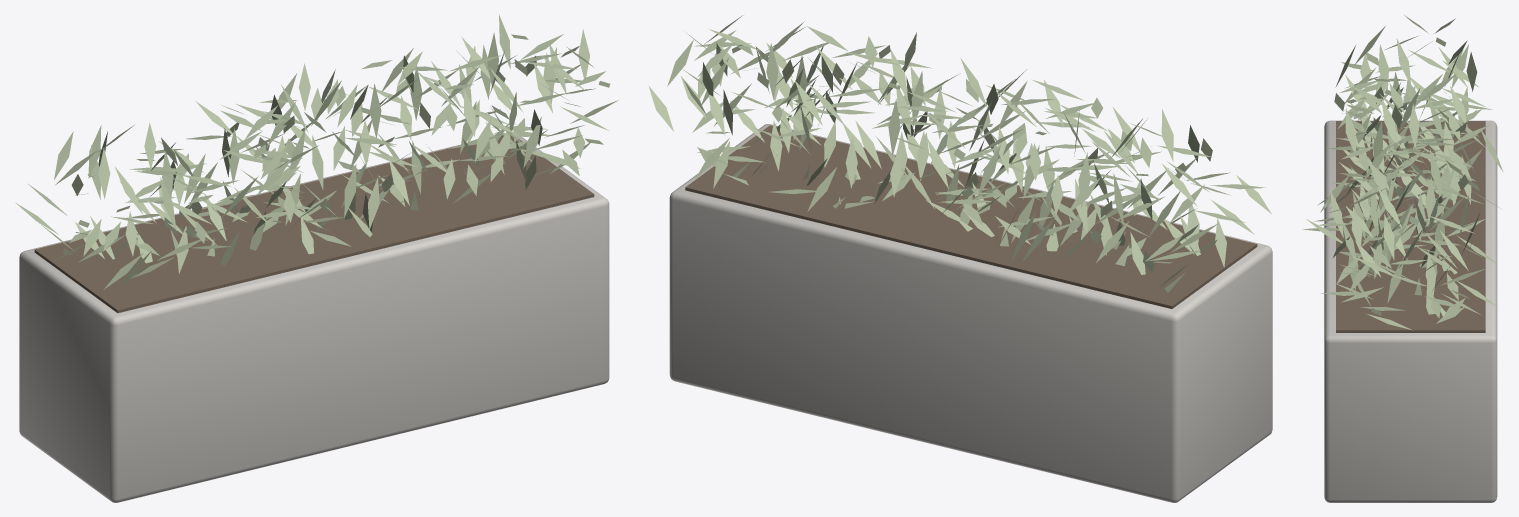
Rendered from planter_box.glb.
The picture shows the model from 3 angles, left to right: view 1: azimuth 30°, elevation 25°; view 2: azimuth 150°, elevation 25°; view 3: azimuth 270°, elevation 25°; orthographic projection. The views are drawn at different scales.
Visible parts, largest first — view 1: box, soil, bush0, bush1, bush3, bush2, bush4; view 2: box, soil, bush0, bush1, bush3, bush4, bush2; view 3: box, soil, bush4, bush3, bush2, bush0, bush1.
Boxes of the visible parts, x1,y1,x2,y2 form: box: [19, 134, 609, 502]; soil: [34, 135, 594, 313]; bush0: [15, 123, 247, 289]; bush1: [125, 95, 323, 273]; bush3: [325, 48, 532, 210]; bush2: [235, 63, 429, 246]; bush4: [439, 14, 618, 189]; box: [669, 124, 1272, 502]; soil: [685, 125, 1257, 308]; bush0: [1066, 109, 1271, 292]; bush1: [938, 80, 1160, 261]; bush3: [748, 26, 958, 211]; bush4: [648, 15, 841, 188]; bush2: [872, 58, 1039, 236]; box: [1324, 120, 1497, 502]; soil: [1336, 121, 1485, 332]; bush4: [1320, 177, 1497, 330]; bush3: [1302, 120, 1500, 303]; bush2: [1317, 87, 1489, 241]; bush0: [1335, 15, 1485, 164]; bush1: [1326, 71, 1503, 210].
Size of the model in its own units: 1.02 by 0.5859 by 0.353.
